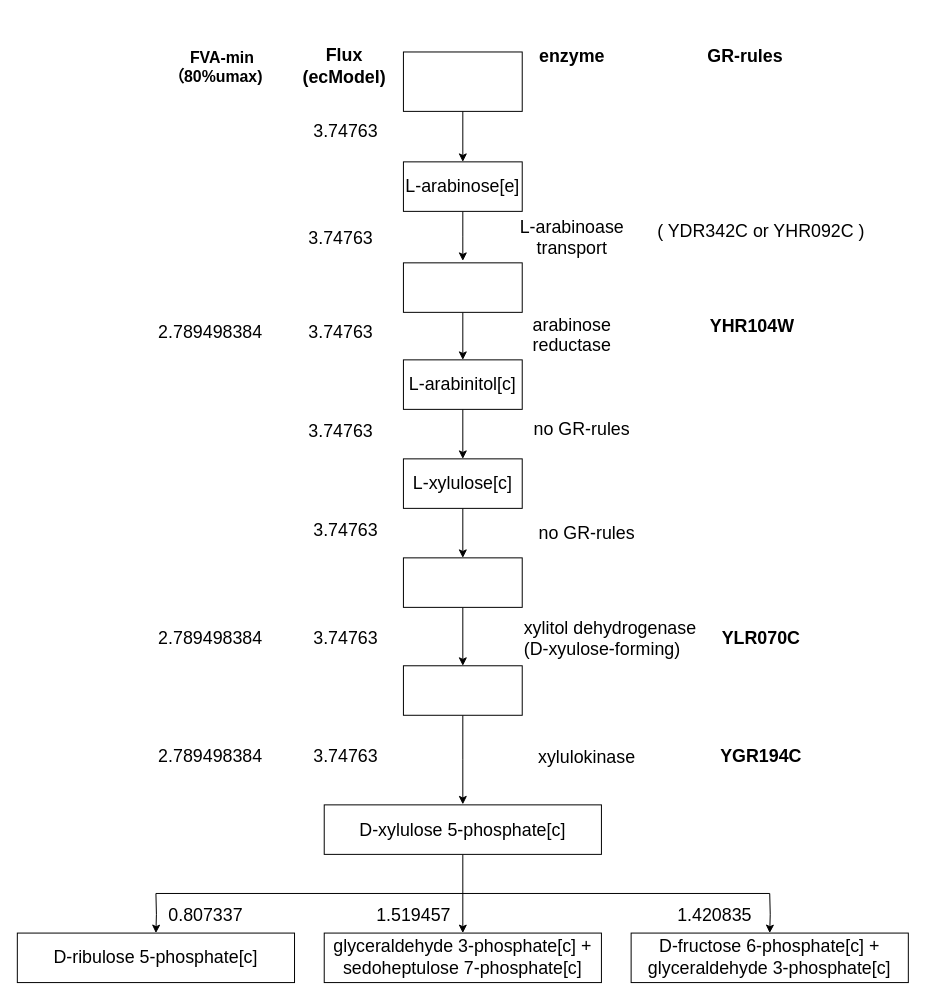
This 926x1000 diagram has some shape labels left out. The shapes that lost their labels are listed below. From the top down, each one's centre as x and y in pixels, then its label:
At point (462, 81): "培养基".
At point (462, 287): "L-arabinose[c]".
At point (462, 582): "xylitol[c]".
At point (462, 690): "D-xylulose[c]".
